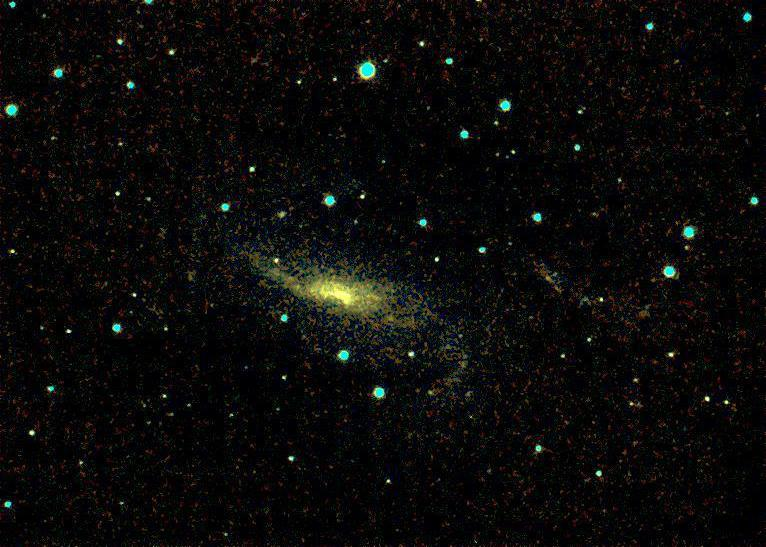star: (333, 285, 363, 315)
